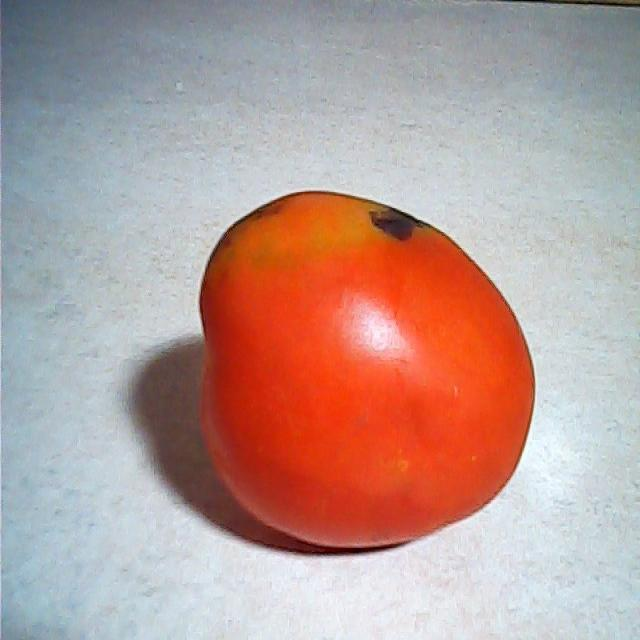defectuoso: (198, 184, 540, 558)
